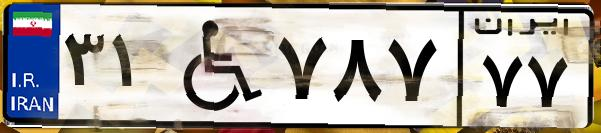1: (110, 28, 158, 98)
3: (57, 26, 110, 100)
7: (270, 28, 330, 110), (385, 28, 445, 110), (475, 38, 525, 113), (525, 38, 570, 115)
8: (330, 28, 385, 110)
ژ (معلولین و جانبازان): (158, 12, 270, 120)
